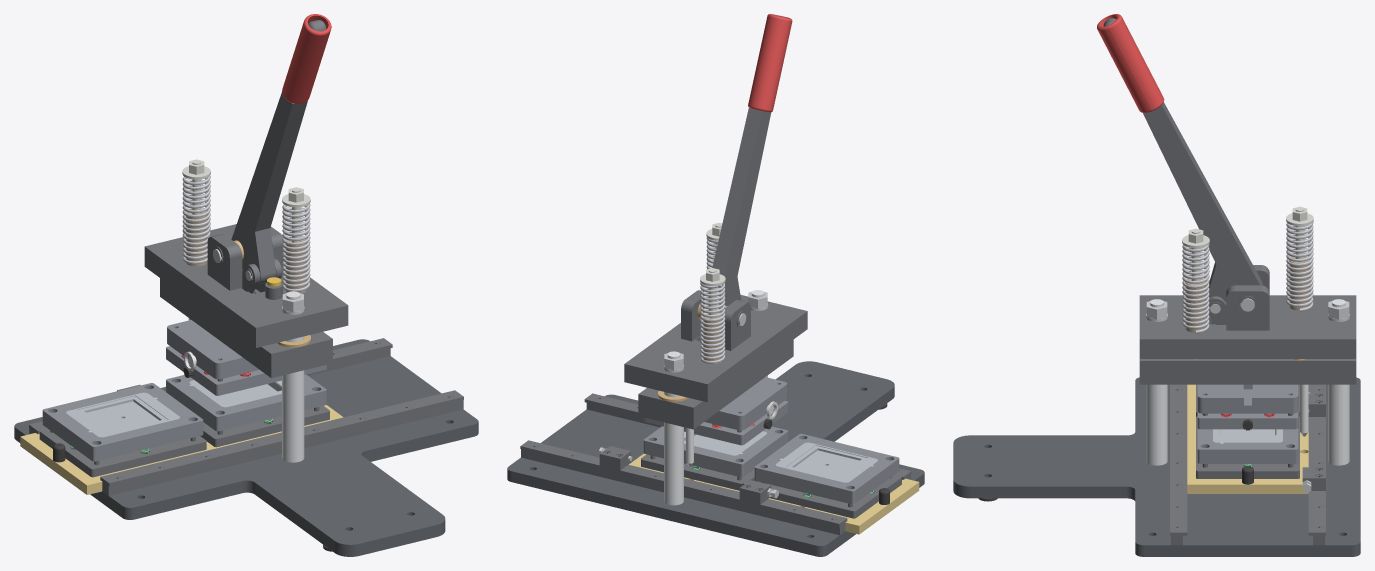
The model's file is MagPress-M4_assembly.glb.
3 renders of one model, left to right at view 1: azimuth 30°, elevation 25°; view 2: azimuth 150°, elevation 25°; view 3: azimuth 270°, elevation 25°, orthographic. The views are drawn at different scales.
Parts seen in each view (by area): view 1: MP-101_1, MP-108_1, MP-113_1, MP-211-A_1, MP-109_1, MP-103-F_1, MP-211-B_1, MP-102-F_1, MP-201_1, MP-205_1, BUY-30_1, MP-107_1 (+11 smaller); view 2: MP-101_1, MP-108_1, MP-113_1, MP-211-A_1, MP-109_1, MP-103-B_1, MP-102-B_1, MP-211-B_1, BUY-30_1, MP-201_1, BUY-20_2, MP-205_1 (+11 smaller); view 3: MP-101_1, MP-108_1, MP-113_1, MP-109_1, MP-201_1, MP-105_1, BUY-30_1, MP-211-B_1, MP-103-F_1, BUY-20_2, BUY-20_1, MP-107_1 (+8 smaller).
Part boxes in pixels (bbox=[...]): MP-101_1: bbox=[14, 339, 478, 556]; MP-108_1: bbox=[144, 224, 348, 347]; MP-113_1: bbox=[231, 20, 326, 283]; MP-211-A_1: bbox=[42, 383, 203, 461]; MP-109_1: bbox=[160, 278, 332, 378]; MP-103-F_1: bbox=[100, 390, 463, 486]; MP-211-B_1: bbox=[166, 374, 326, 431]; MP-102-F_1: bbox=[102, 400, 463, 495]; MP-201_1: bbox=[167, 320, 259, 379]; MP-205_1: bbox=[39, 428, 206, 477]; BUY-30_1: bbox=[282, 14, 331, 104]; MP-107_1: bbox=[282, 291, 304, 462]; MP-101_1: bbox=[507, 361, 924, 556]; MP-108_1: bbox=[624, 294, 807, 402]; MP-113_1: bbox=[703, 15, 784, 312]; MP-211-A_1: bbox=[754, 433, 899, 504]; MP-109_1: bbox=[638, 339, 793, 429]; MP-103-B_1: bbox=[520, 440, 847, 526]; MP-102-B_1: bbox=[521, 449, 845, 535]; MP-211-B_1: bbox=[643, 426, 788, 477]; BUY-30_1: bbox=[748, 14, 792, 112]; MP-201_1: bbox=[704, 377, 787, 430]; BUY-20_2: bbox=[700, 282, 725, 363]; MP-205_1: bbox=[757, 474, 901, 518]; MP-101_1: bbox=[953, 377, 1360, 556]; MP-108_1: bbox=[1139, 295, 1356, 358]; MP-113_1: bbox=[1103, 18, 1263, 302]; MP-109_1: bbox=[1139, 359, 1356, 384]; MP-201_1: bbox=[1197, 384, 1298, 413]; MP-105_1: bbox=[1187, 384, 1308, 493]; BUY-30_1: bbox=[1097, 14, 1164, 112]; MP-211-B_1: bbox=[1197, 428, 1298, 463]; MP-103-F_1: bbox=[1170, 384, 1187, 535]; BUY-20_2: bbox=[1286, 222, 1313, 311]; BUY-20_1: bbox=[1182, 244, 1209, 333]; MP-107_1: bbox=[1146, 299, 1167, 465].
Bounding box in the file's own units: 480 × 585 × 470.
